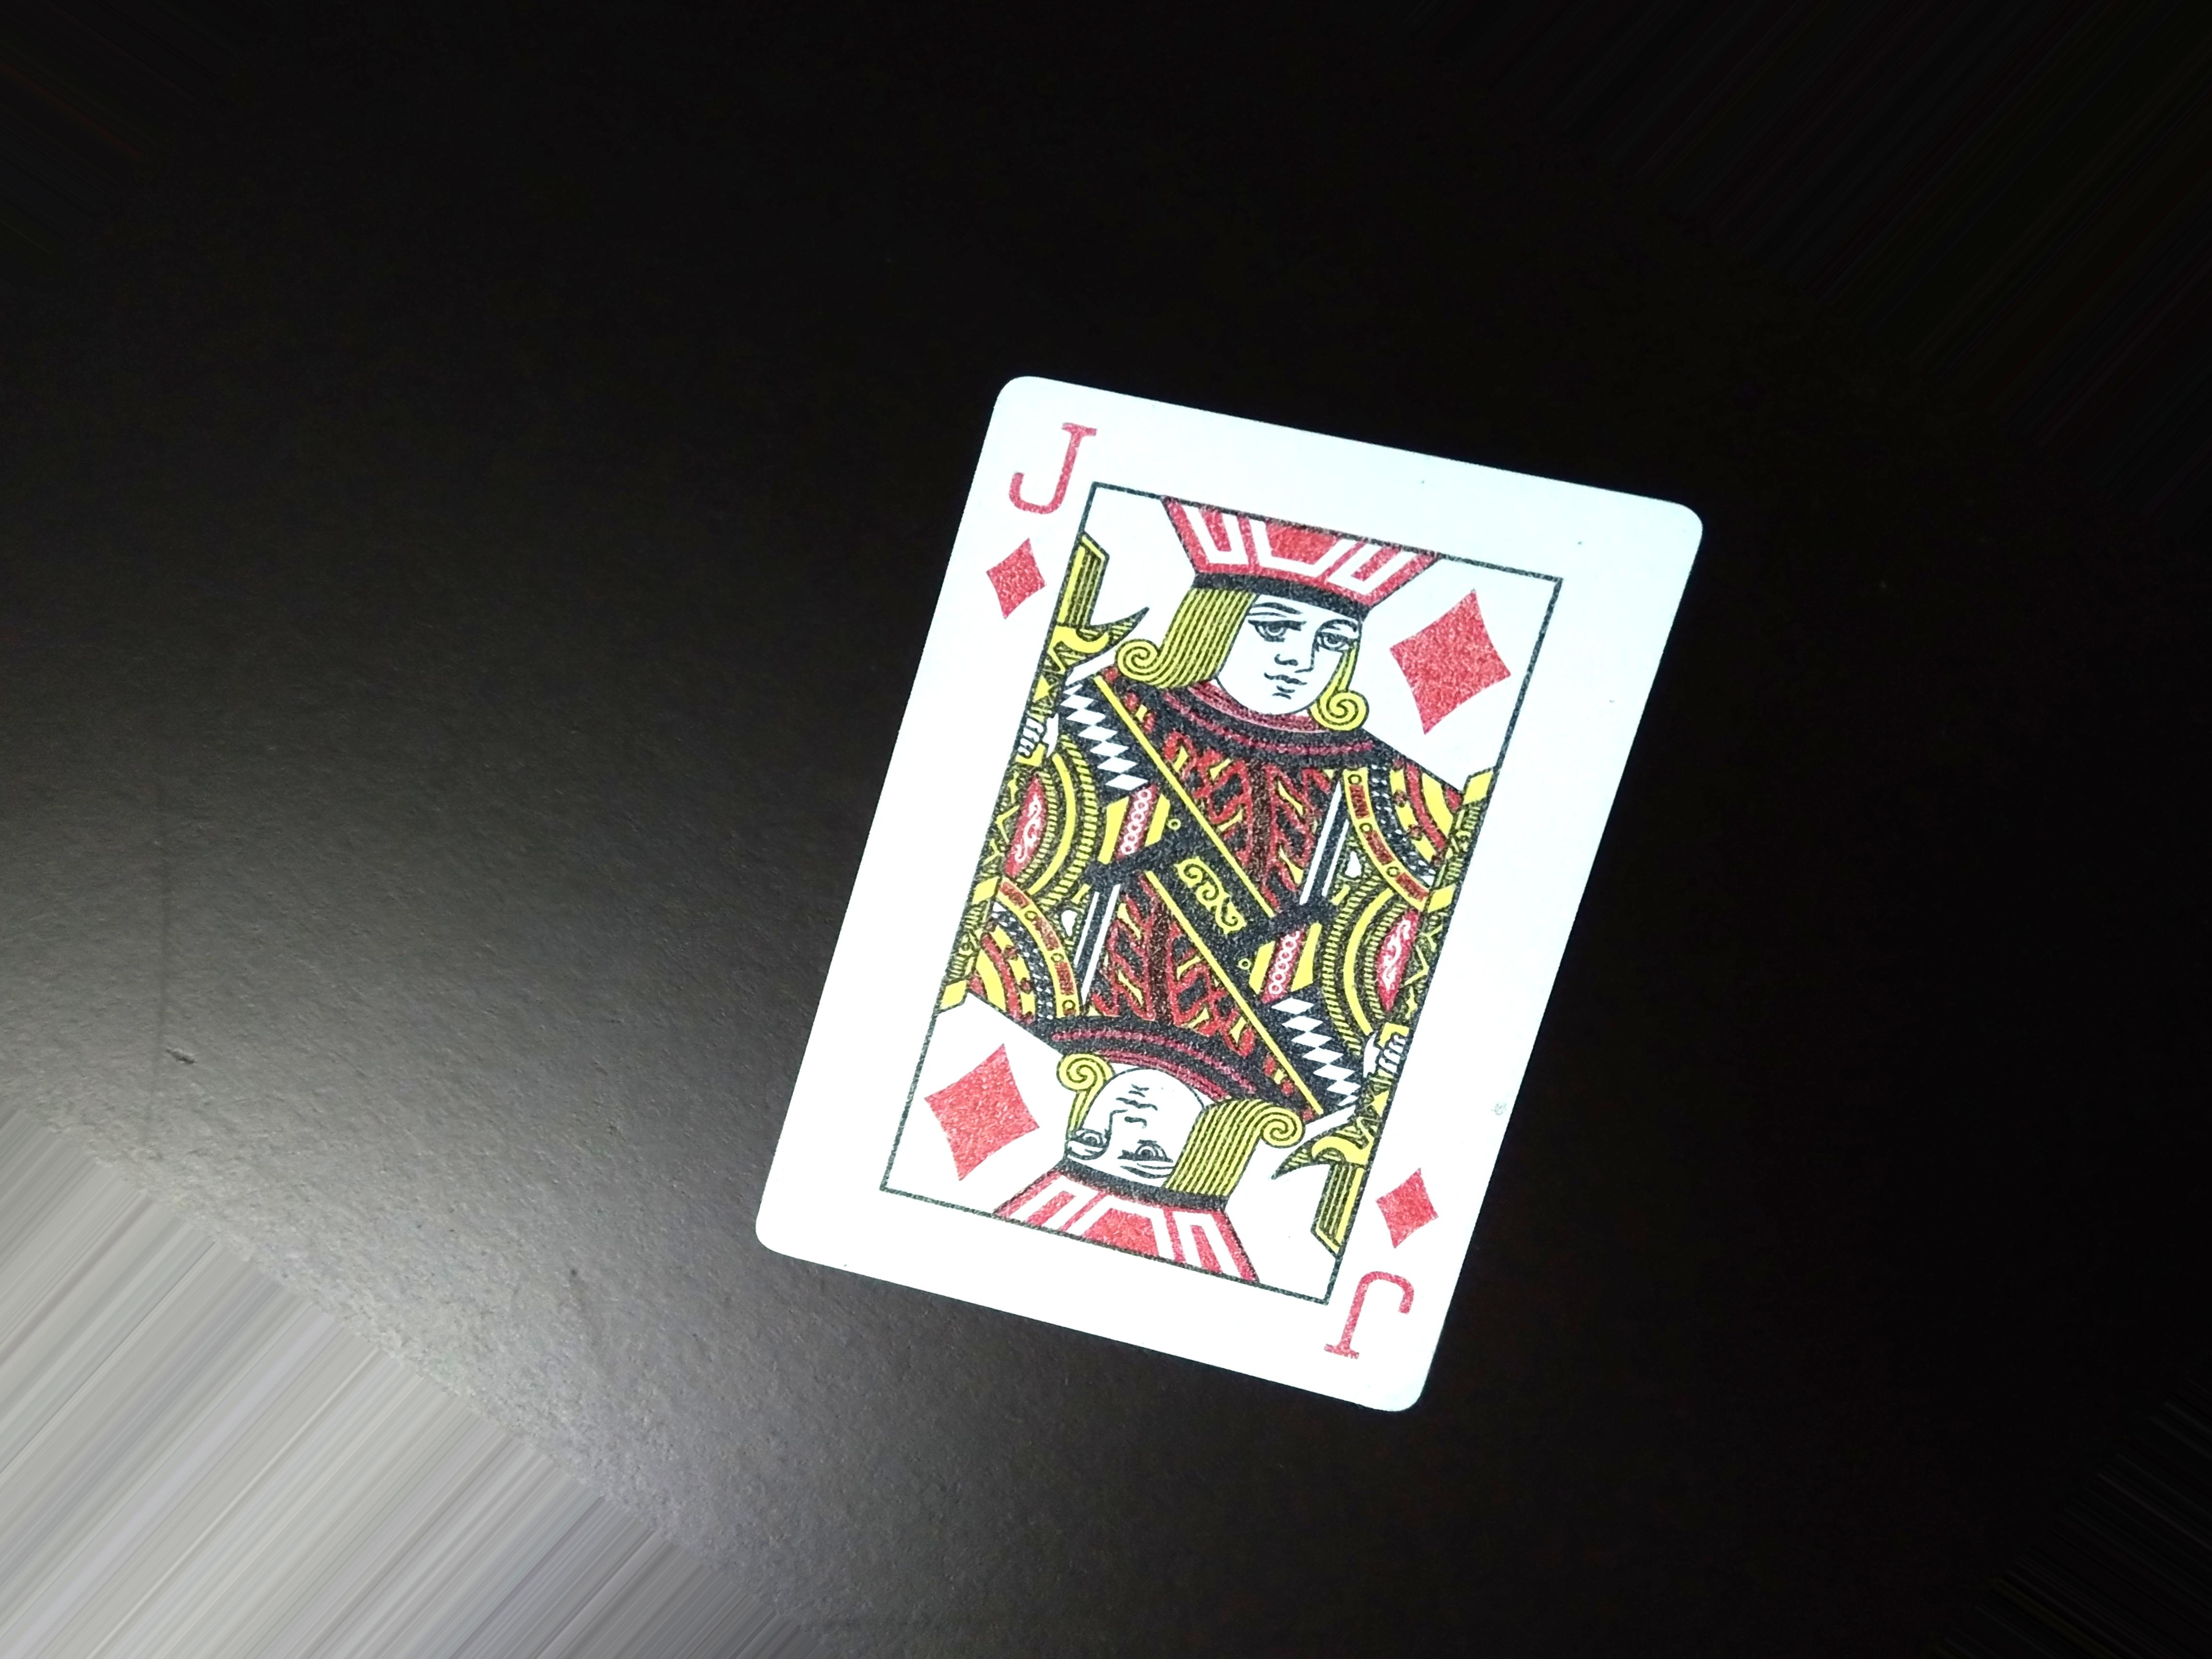JD: (972, 413, 1096, 634)
